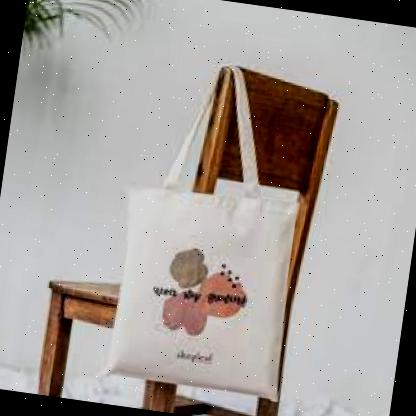bag: (96, 163, 314, 413)
